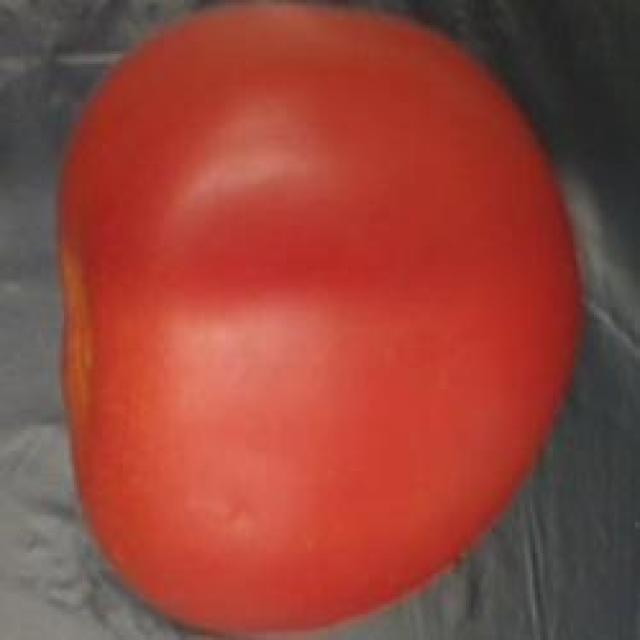ripe tomato: (46, 0, 609, 640)
